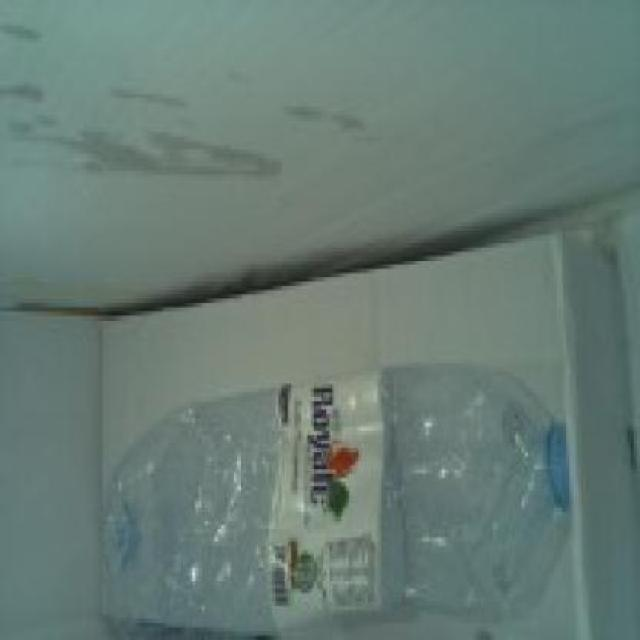Pet_Bottle: (100, 360, 574, 640)
